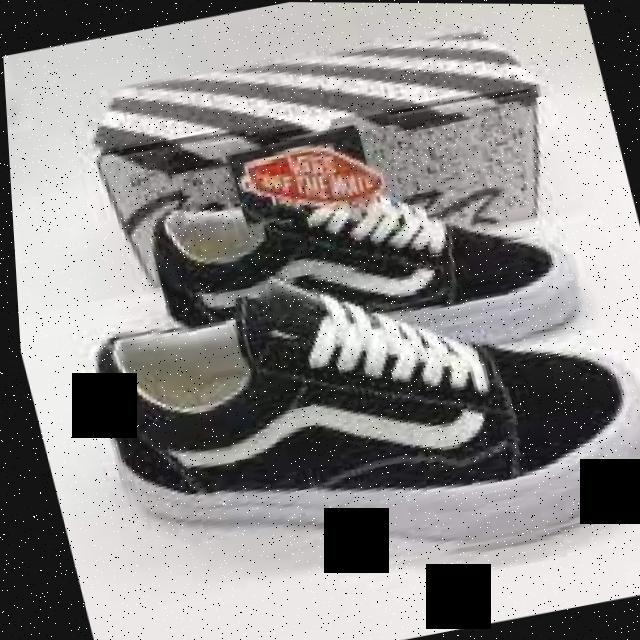shoe: (30, 87, 640, 622), (70, 220, 640, 616)
